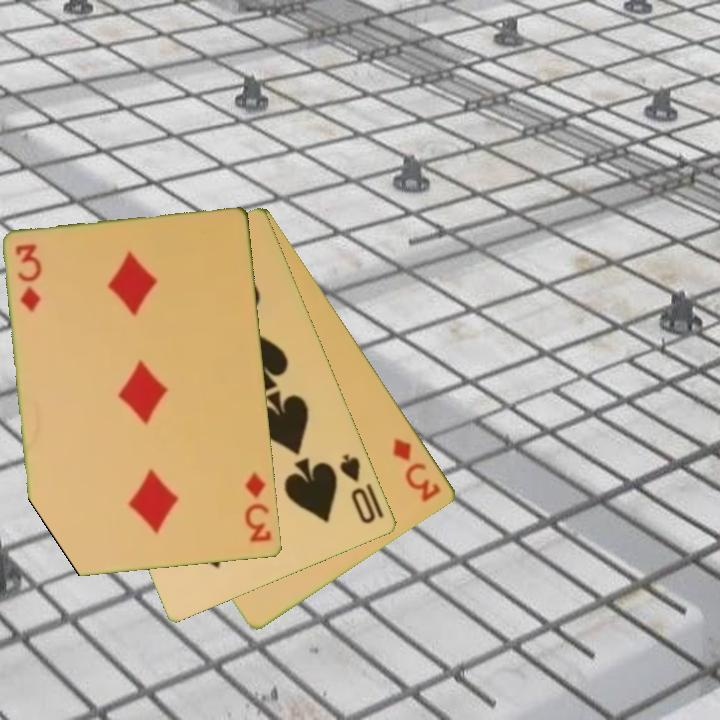10s: (336, 450, 379, 527)
3d: (389, 434, 444, 506), (242, 469, 275, 546), (12, 241, 44, 315)
